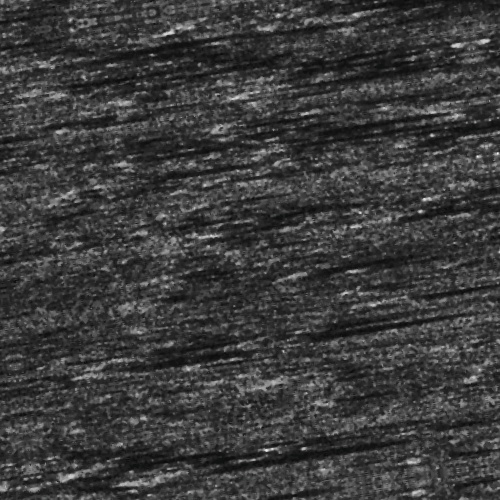object: (0, 47, 184, 70), (149, 336, 378, 353), (65, 454, 180, 465), (413, 128, 500, 141), (362, 315, 425, 320), (80, 158, 143, 163)
shadow: (80, 47, 273, 70), (264, 336, 439, 353), (123, 454, 348, 465), (112, 158, 244, 163), (394, 315, 500, 320), (0, 344, 36, 357), (0, 114, 34, 123)
